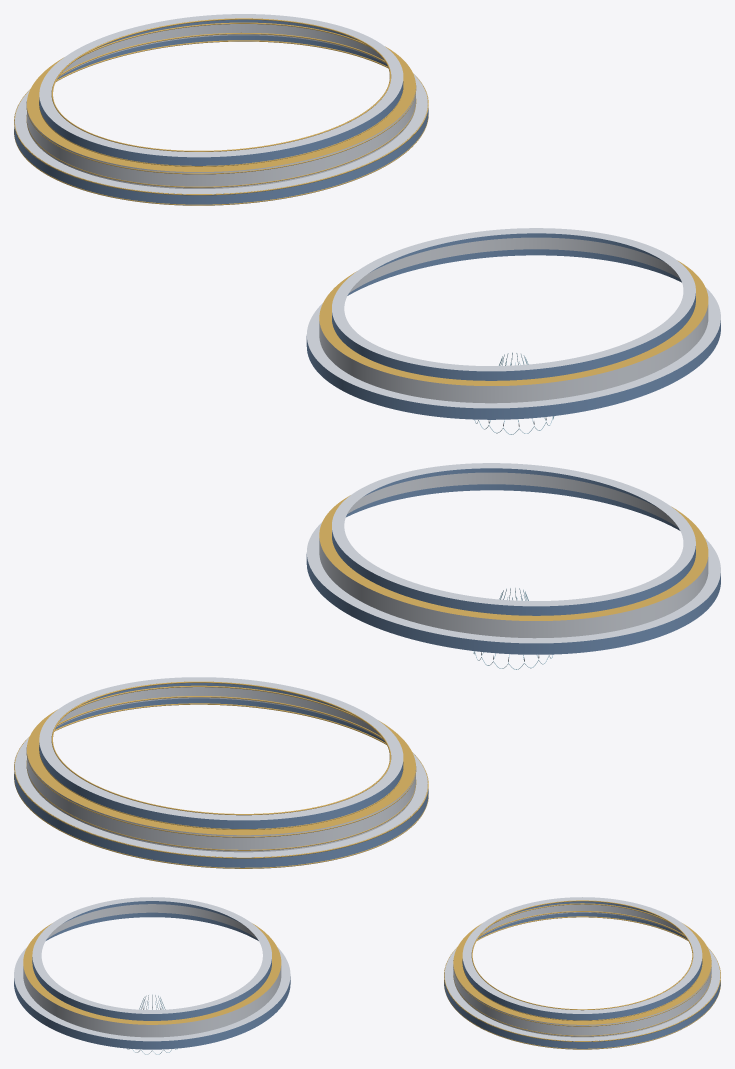
Rendered from KRM_STATIC_010.fbx.
3 views of the same model, one above another, from view 1: azimuth 30°, elevation 25°; view 2: azimuth 150°, elevation 25°; view 3: azimuth 270°, elevation 25° (orthographic). The views are drawn at different scales.
Parts seen in each view (by area): view 1: KRM_STATIC_010; view 2: KRM_STATIC_010; view 3: KRM_STATIC_010.
Part boxes in pixels (box(x1,y1,x2,y2)): KRM_STATIC_010: box(14, 14, 720, 434); KRM_STATIC_010: box(14, 463, 720, 868); KRM_STATIC_010: box(14, 897, 720, 1054).
Bounding box in the file's own units: 2043 × 630 × 4601.
Materials: 1 (1 with a texture image).
